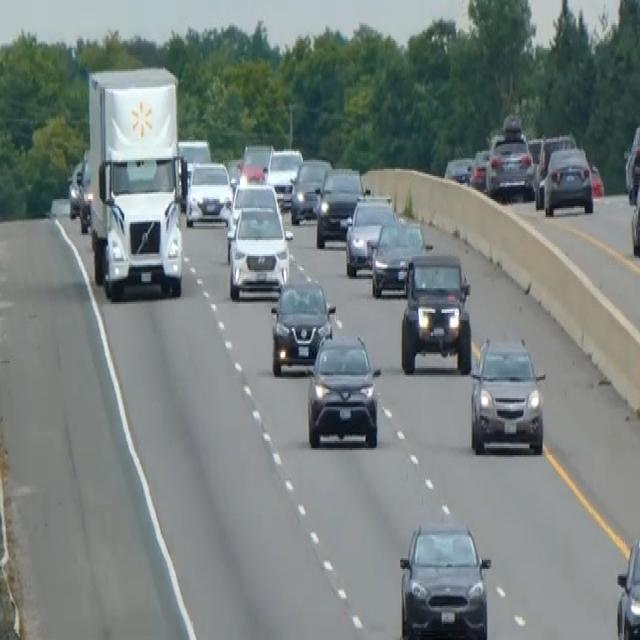car: (397, 518, 491, 638), (468, 331, 546, 455), (305, 330, 381, 450), (399, 249, 472, 373), (270, 276, 335, 375), (227, 202, 291, 300), (369, 215, 431, 297), (224, 180, 281, 260), (343, 192, 395, 276), (485, 117, 535, 201), (315, 164, 365, 247), (542, 144, 594, 217), (185, 158, 232, 226), (289, 155, 332, 224), (534, 132, 576, 202), (614, 535, 639, 638), (266, 146, 302, 206), (240, 141, 273, 183), (623, 122, 639, 202), (77, 155, 92, 233), (177, 135, 211, 167), (468, 146, 491, 190), (67, 158, 84, 217), (443, 153, 473, 185), (629, 180, 639, 254)
lorry: (85, 64, 186, 300)
